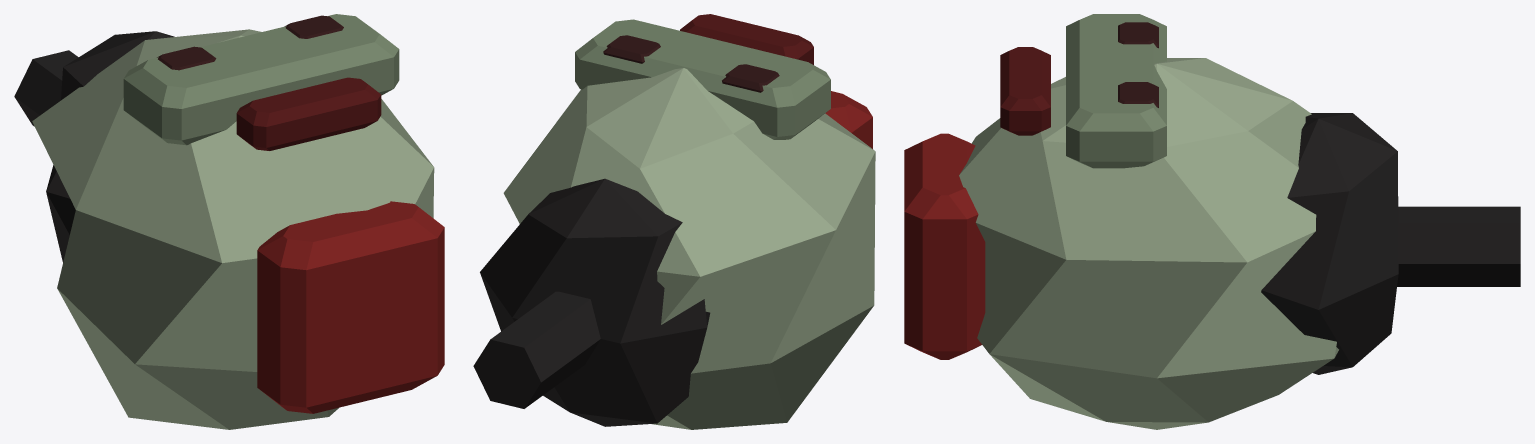
Rendered from SM_FP_Item_Testa.glb.
3 renders of one model, left to right at view 1: azimuth 30°, elevation 25°; view 2: azimuth 150°, elevation 25°; view 3: azimuth 270°, elevation 25°, orthographic. The views are drawn at different scales.
Parts seen in each view (by area): view 1: SM_FP_Item_Testa; view 2: SM_FP_Item_Testa; view 3: SM_FP_Item_Testa.
Part boxes in pixels (left/top/right/bottom): SM_FP_Item_Testa: left=14, top=14, right=444, bottom=429; SM_FP_Item_Testa: left=473, top=14, right=875, bottom=429; SM_FP_Item_Testa: left=904, top=14, right=1520, bottom=429.
Size of the model in its own units: 0.1722 by 0.201 by 0.305.
Materials: 1 (1 with a texture image).
